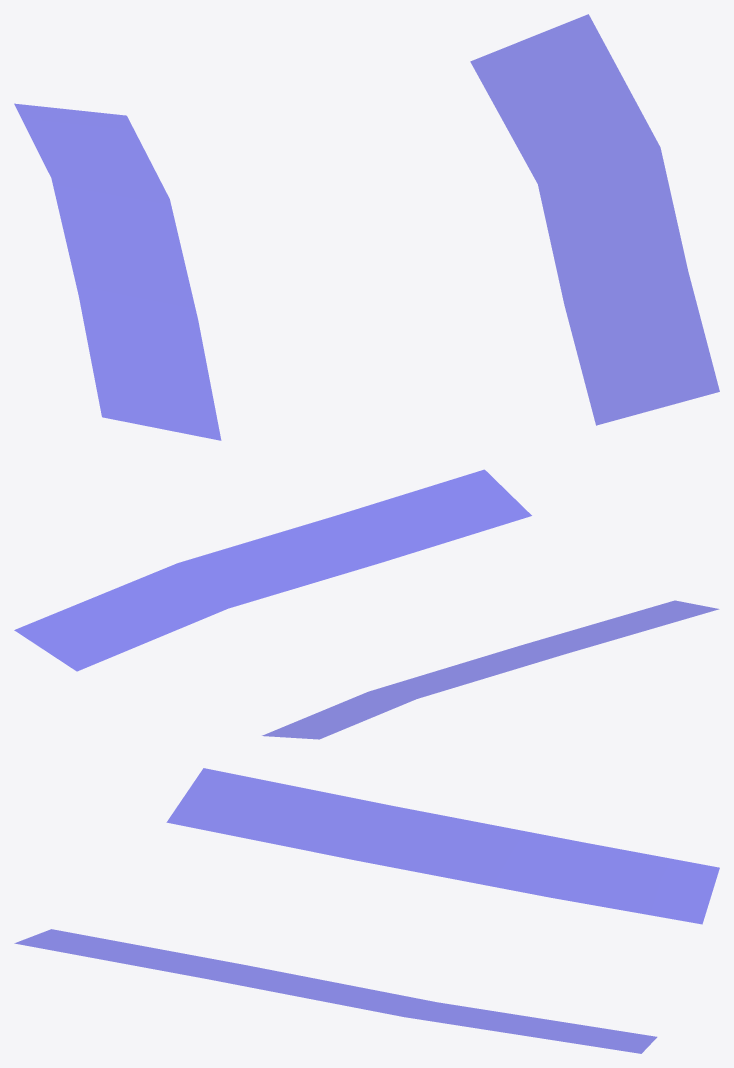
The model's file is track_la_coll_off_20.fbx.
The picture shows the model from 3 angles, top to bottom: view 1: azimuth 30°, elevation 25°; view 2: azimuth 150°, elevation 25°; view 3: azimuth 270°, elevation 25°; orthographic projection. The views are drawn at different scales.
Parts seen in each view (by area): view 1: track_la_coll_off_20; view 2: track_la_coll_off_20; view 3: track_la_coll_off_20.
Boxes of the visible parts, x1,y1,x2,y2 form: track_la_coll_off_20: [14, 14, 719, 440]; track_la_coll_off_20: [14, 469, 718, 739]; track_la_coll_off_20: [14, 768, 719, 1053].
Bounding box in the file's own units: 53.01 × 2.31 × 56.15.
